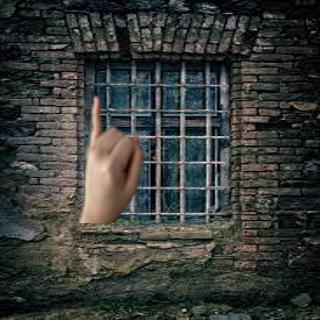Fine: (72, 93, 152, 220)
